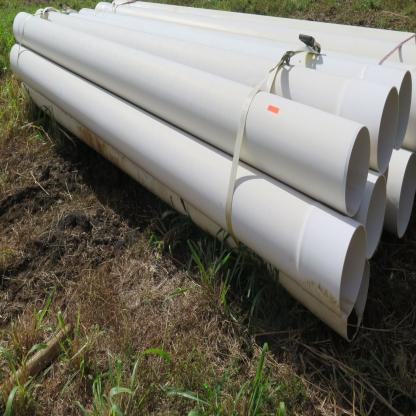PVC: (9, 2, 416, 342)
